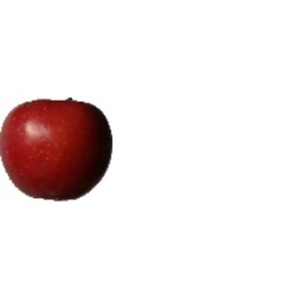maçã braeburn: (1, 91, 110, 211)
